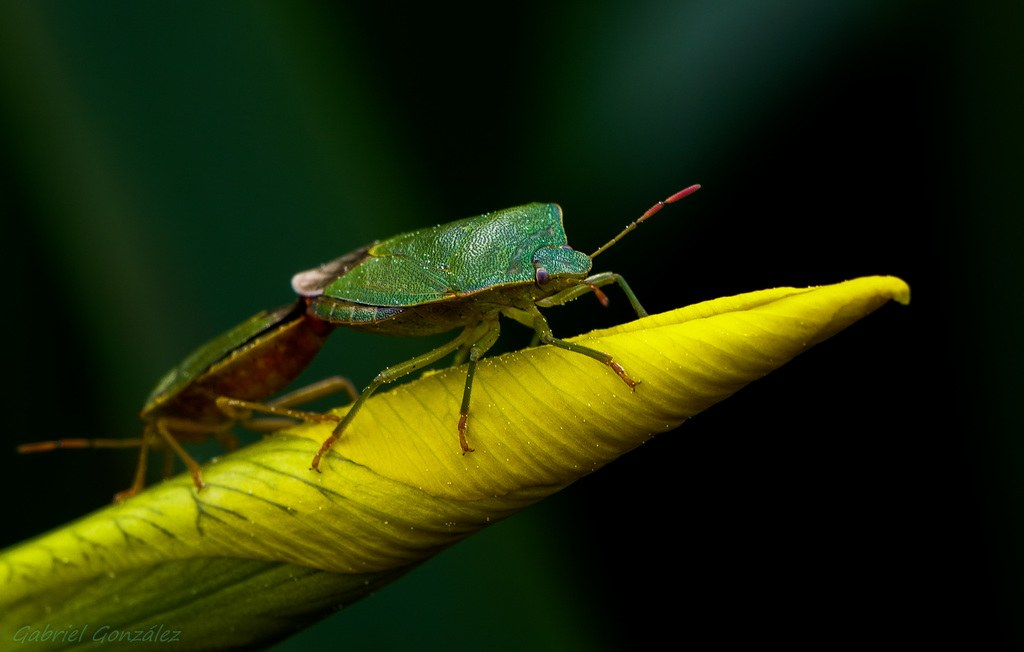insect: (20, 182, 700, 507)
